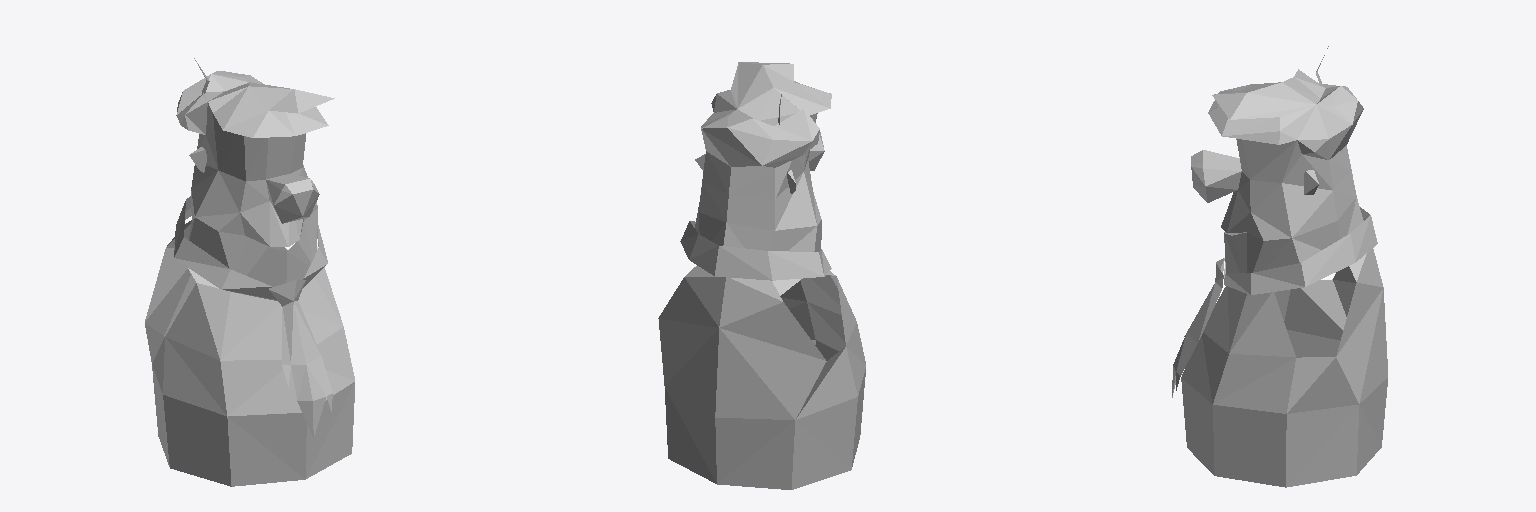
The model's file is cuerpo.obj.
3 views of the same model, side by side, from view 1: azimuth 30°, elevation 25°; view 2: azimuth 150°, elevation 25°; view 3: azimuth 270°, elevation 25° (orthographic).
Parts seen in each view (by area): view 1: polySurface15; view 2: polySurface15; view 3: polySurface15.
Boxes of the visible parts, x1,y1,x2,y2 form: polySurface15: [145, 58, 354, 486]; polySurface15: [658, 62, 865, 489]; polySurface15: [1172, 46, 1387, 487].
Bounding box in the file's own units: 2.63 × 5.29 × 2.7.